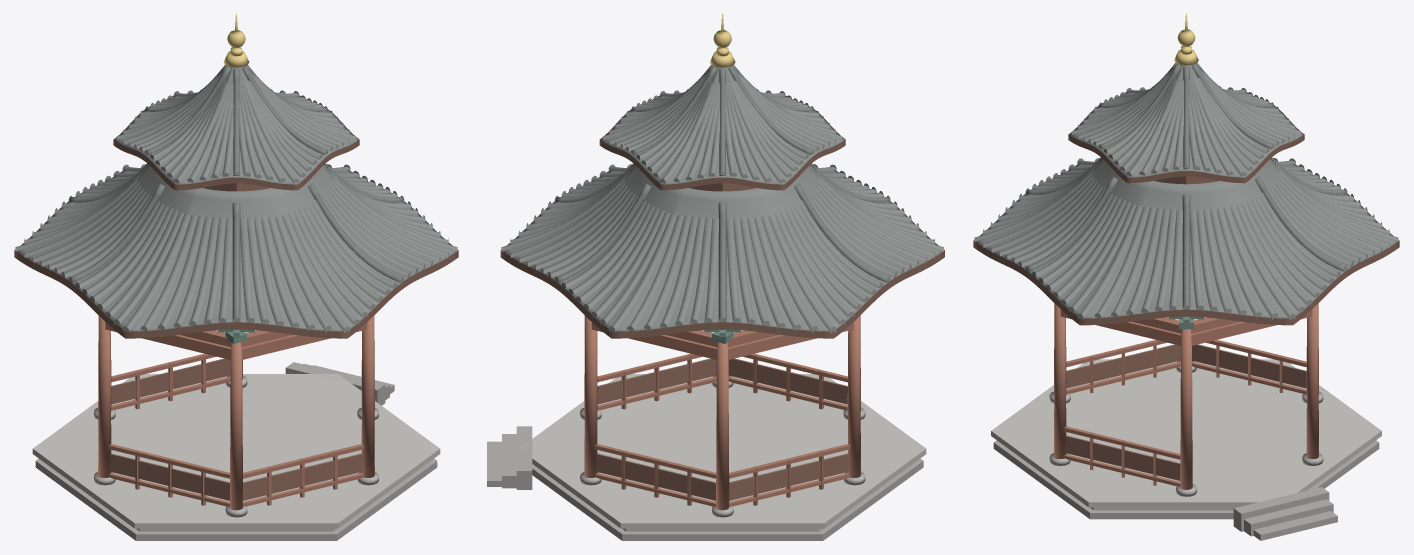
File: hex_pavilion.glb
3 renders of one model, left to right at view 1: azimuth 30°, elevation 25°; view 2: azimuth 150°, elevation 25°; view 3: azimuth 270°, elevation 25°, orthographic. The views are drawn at different scales.
Visible parts, largest first — view 1: pav_roof_lower, pav_platform_mid, pav_column_0, pav_purlin, pav_platform_lo, pav_hip_lower_0, pav_tiles_lower_wadang_0, pav_finial_base; view 2: pav_roof_lower, pav_platform_mid, pav_column_0, pav_purlin, pav_platform_lo, pav_hip_lower_0, pav_tiles_lower_wadang_0, pav_finial_base; view 3: pav_roof_lower, pav_platform_mid, pav_column_0, pav_purlin, pav_platform_lo, pav_hip_lower_0, pav_tiles_lower_wadang_0, pav_finial_base.
Boxes of the visible parts, x1,y1,x2,y2 form: pav_roof_lower: (15, 66, 457, 331); pav_platform_mid: (32, 374, 440, 531); pav_column_0: (98, 316, 374, 510); pav_purlin: (14, 95, 458, 500); pav_platform_lo: (35, 362, 437, 540); pav_hip_lower_0: (69, 65, 403, 319); pav_tiles_lower_wadang_0: (24, 89, 448, 333); pav_finial_base: (223, 14, 249, 67); pav_roof_lower: (501, 66, 943, 331); pav_platform_mid: (519, 374, 926, 531); pav_column_0: (584, 315, 860, 510); pav_purlin: (500, 95, 944, 500); pav_platform_lo: (487, 375, 923, 540); pav_hip_lower_0: (555, 65, 889, 320); pav_tiles_lower_wadang_0: (510, 89, 934, 333); pav_finial_base: (710, 14, 735, 67); pav_roof_lower: (974, 64, 1398, 318); pav_platform_mid: (991, 359, 1381, 510); pav_column_0: (1054, 303, 1318, 489); pav_purlin: (973, 92, 1399, 480); pav_platform_lo: (993, 361, 1379, 540); pav_hip_lower_0: (1026, 63, 1346, 307); pav_tiles_lower_wadang_0: (983, 86, 1389, 320); pav_finial_base: (1174, 14, 1198, 65).
Bounding box in the file's own units: 9.13 × 10.85 × 9.64.
